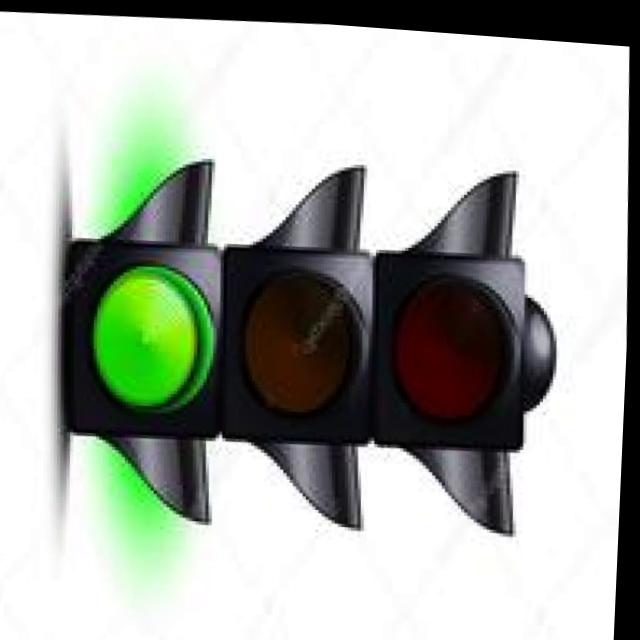green_light: (91, 242, 243, 430)
